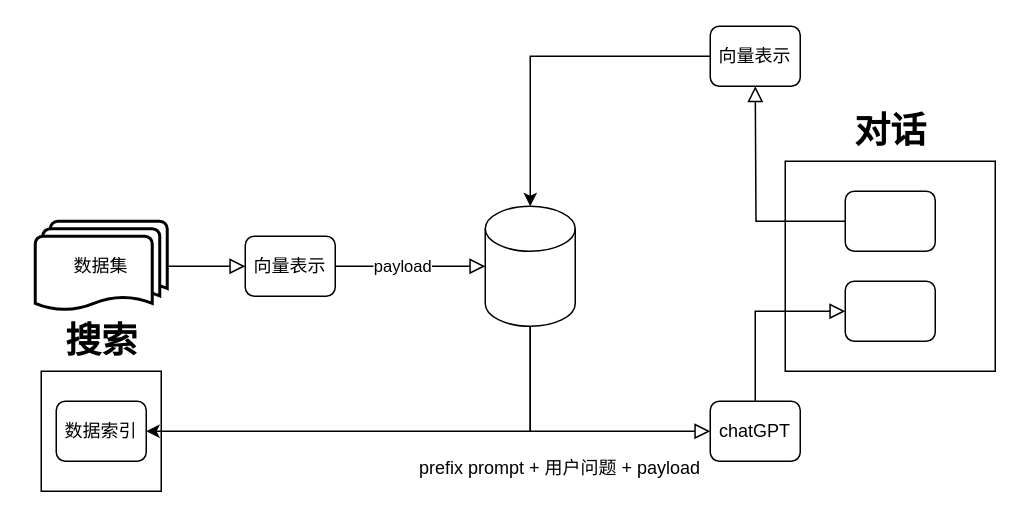
This 1022x518 diagram has some shape labels left out. Here are the shapes that lost their labels. From the top down, the box of each, then its label:
(844, 190, 935, 251): 用户问题
(484, 205, 575, 326): 向量数据库
(844, 280, 935, 341): 用户回答
